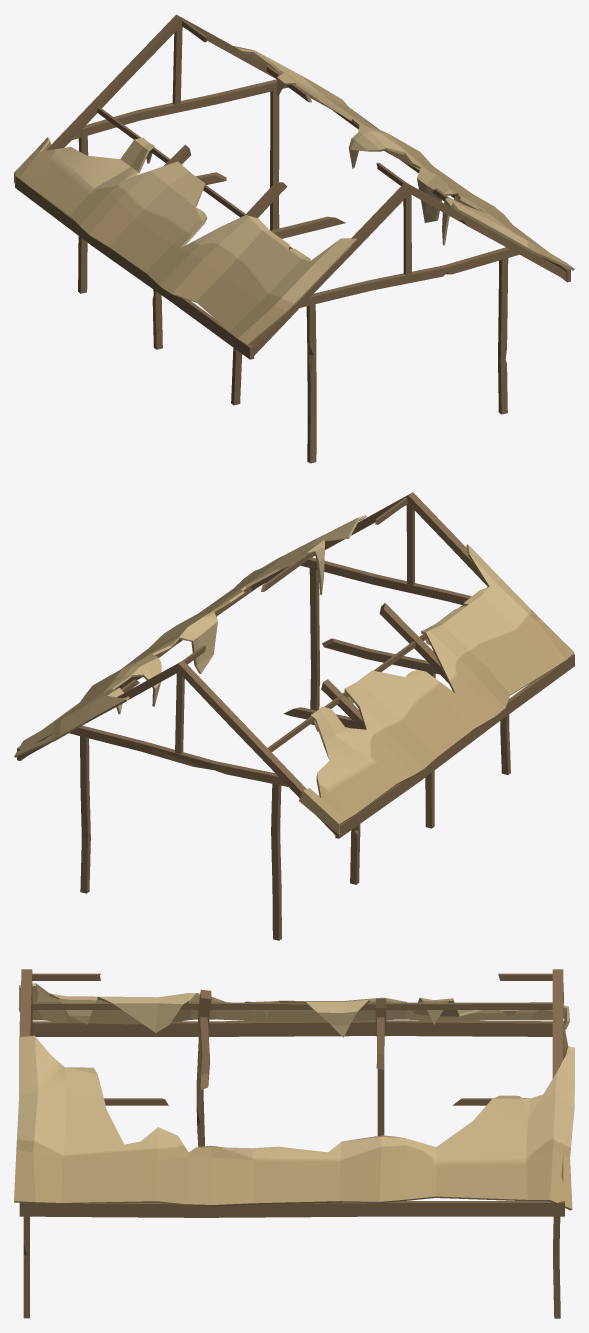
File: SM_Bld_Tent_Shelter_Destroyed_01.fbx
3 views of the same model, one above another, from view 1: azimuth 30°, elevation 25°; view 2: azimuth 150°, elevation 25°; view 3: azimuth 270°, elevation 25° (orthographic). The views are drawn at different scales.
Visible parts, largest first — view 1: SM_Bld_Tent_Shelter_Destroyed_01; view 2: SM_Bld_Tent_Shelter_Destroyed_01; view 3: SM_Bld_Tent_Shelter_Destroyed_01.
Boxes of the visible parts, x1,y1,x2,y2 form: SM_Bld_Tent_Shelter_Destroyed_01: [14, 14, 574, 463]; SM_Bld_Tent_Shelter_Destroyed_01: [14, 492, 574, 940]; SM_Bld_Tent_Shelter_Destroyed_01: [14, 969, 574, 1318].
Size of the model in its own units: 775 by 568 by 977.
